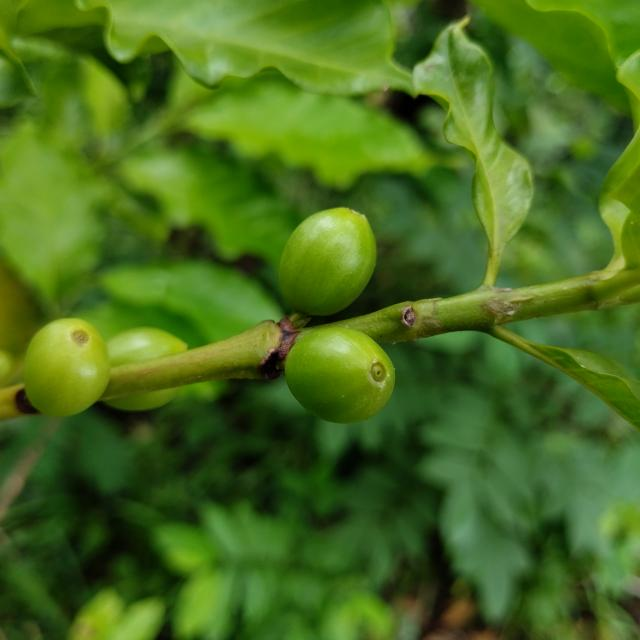green: (279, 207, 377, 315), (285, 328, 395, 424), (22, 318, 110, 417), (106, 327, 187, 366), (104, 388, 179, 411)
